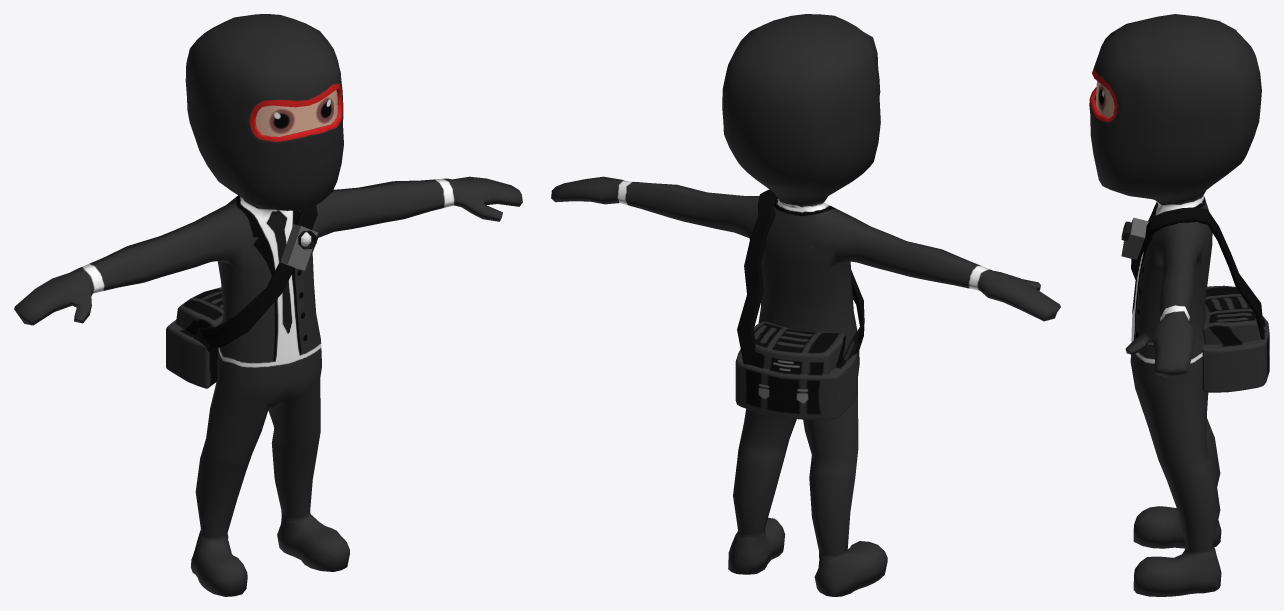
The model's file is thief__with_flashlight.fbx.
3 views of the same model, side by side, from view 1: azimuth 30°, elevation 25°; view 2: azimuth 150°, elevation 25°; view 3: azimuth 270°, elevation 25° (orthographic).
Visible parts, largest first — view 1: polySurface3, Cube; view 2: polySurface3; view 3: polySurface3, Cube.
Part boxes in pixels (x1,y1,x2,y2): polySurface3: (14,14,522,596); Cube: (280,224,317,270); polySurface3: (551,14,1060,596); polySurface3: (1089,14,1269,596); Cube: (1121,217,1148,259).
Size of the model in its own units: 3.62 by 3.74 by 1.13.
